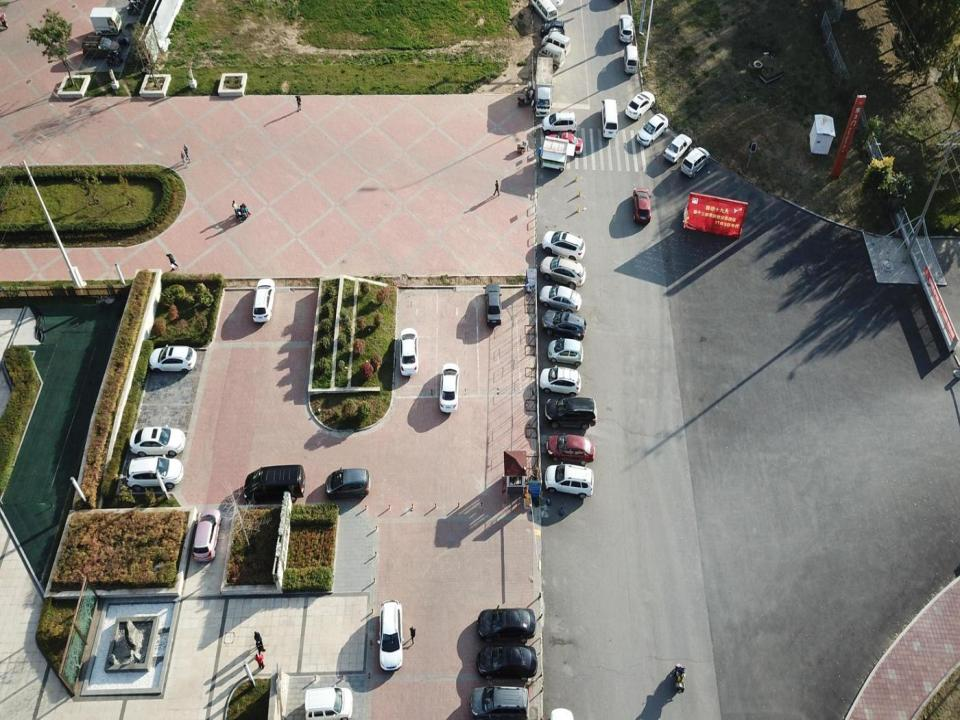car: (476, 644, 537, 683), (243, 466, 304, 503), (478, 609, 535, 645), (468, 686, 530, 719), (124, 458, 183, 490), (303, 684, 355, 719), (544, 464, 594, 500), (128, 427, 187, 457), (545, 398, 597, 432), (546, 432, 594, 467), (380, 598, 402, 670), (194, 509, 222, 562), (541, 258, 586, 290), (543, 310, 586, 342), (324, 469, 371, 498), (149, 346, 197, 374), (542, 231, 585, 262), (540, 367, 582, 396), (540, 285, 582, 314), (549, 336, 584, 368), (636, 112, 668, 147), (252, 278, 274, 323), (398, 328, 418, 376), (440, 364, 459, 413), (682, 147, 710, 179), (547, 132, 584, 156), (81, 36, 121, 58), (662, 133, 690, 164), (483, 282, 502, 327), (625, 92, 654, 121), (542, 112, 576, 134), (633, 187, 652, 226), (618, 13, 634, 43), (541, 21, 564, 35)
truck: (89, 6, 124, 36)
van: (600, 99, 619, 139), (531, 0, 559, 26), (542, 33, 572, 57), (538, 43, 565, 69), (623, 46, 640, 74)
